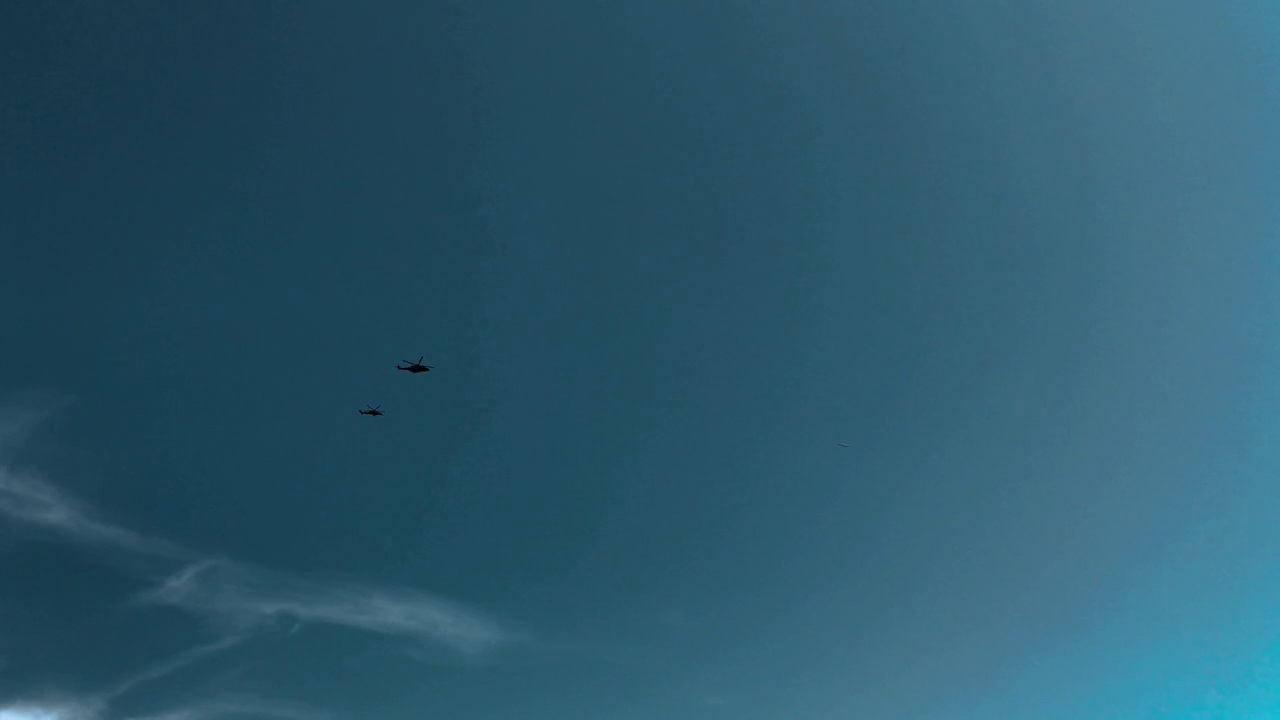heli: (393, 354, 433, 374), (359, 403, 386, 417)
